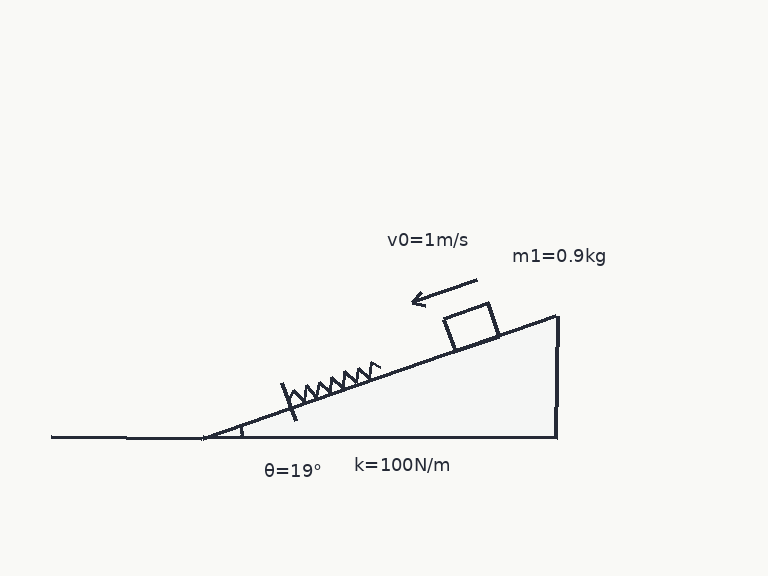block: (442, 302, 501, 353)
ramp: (200, 314, 559, 440)
spring: (286, 361, 382, 403)
